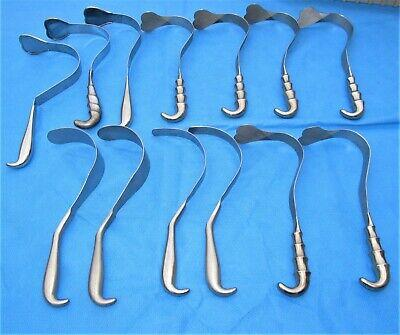Harrington Retractor: (296, 124, 399, 292), (231, 124, 327, 303), (39, 123, 111, 311), (86, 124, 154, 312), (6, 30, 79, 170), (151, 122, 207, 298), (188, 123, 241, 307), (296, 4, 373, 121), (44, 9, 112, 130), (241, 0, 304, 118), (84, 4, 141, 128), (193, 2, 250, 120), (139, 6, 192, 122)
